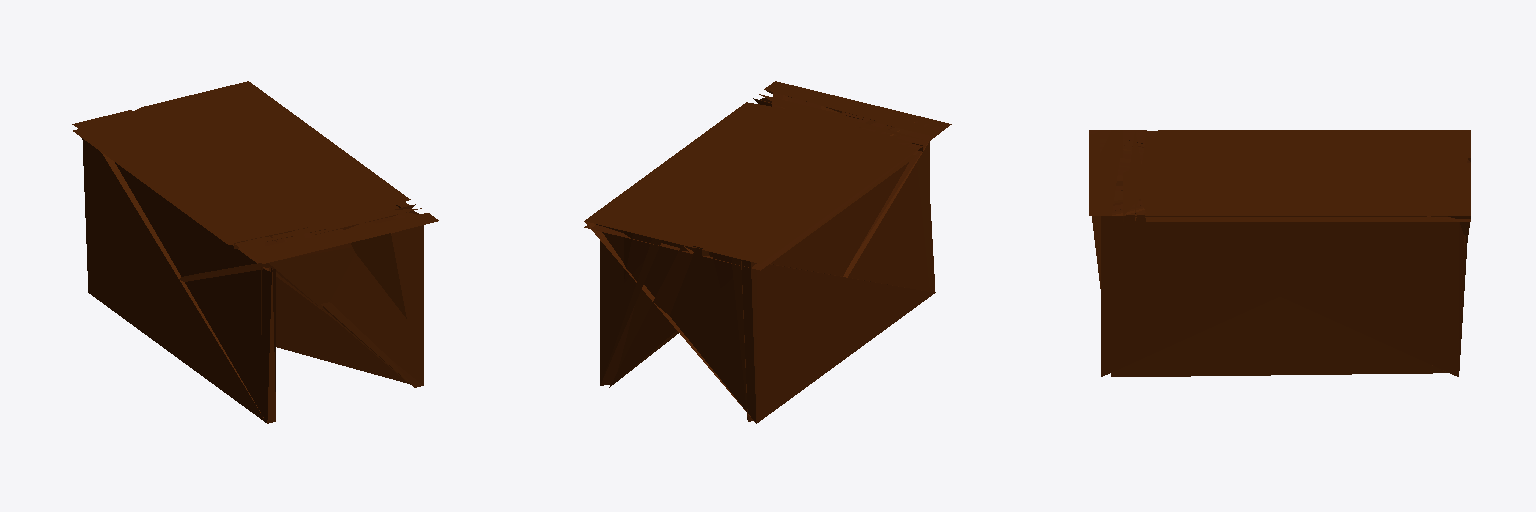
File: table.obj
3 views of the same model, side by side, from view 1: azimuth 30°, elevation 25°; view 2: azimuth 150°, elevation 25°; view 3: azimuth 270°, elevation 25° (orthographic).
Visible parts, largest first — view 1: Box001; view 2: Box001; view 3: Box001.
Part boxes in pixels (x1,y1,x2,y2): Box001: (72, 81, 438, 423); Box001: (584, 81, 951, 423); Box001: (1089, 130, 1470, 376).
Size of the model in its own units: 80 by 72.13 by 150.